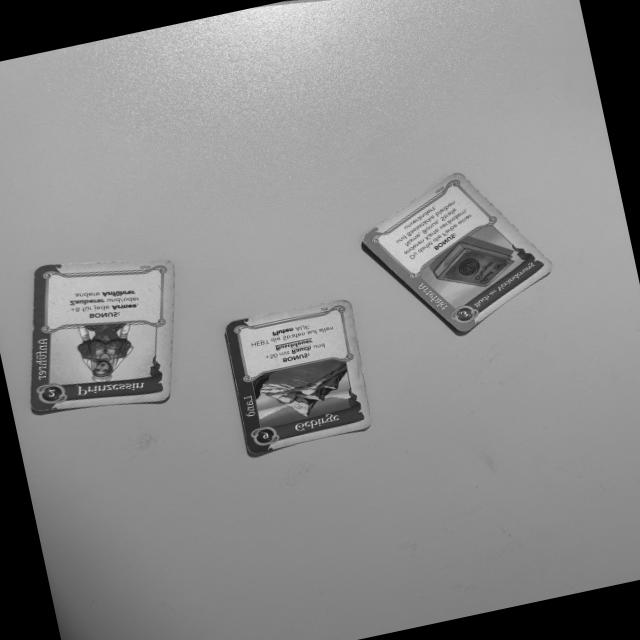Book Of Changes: (352, 168, 553, 338)
Mountain: (222, 295, 372, 458)
Princess: (28, 260, 173, 412)
